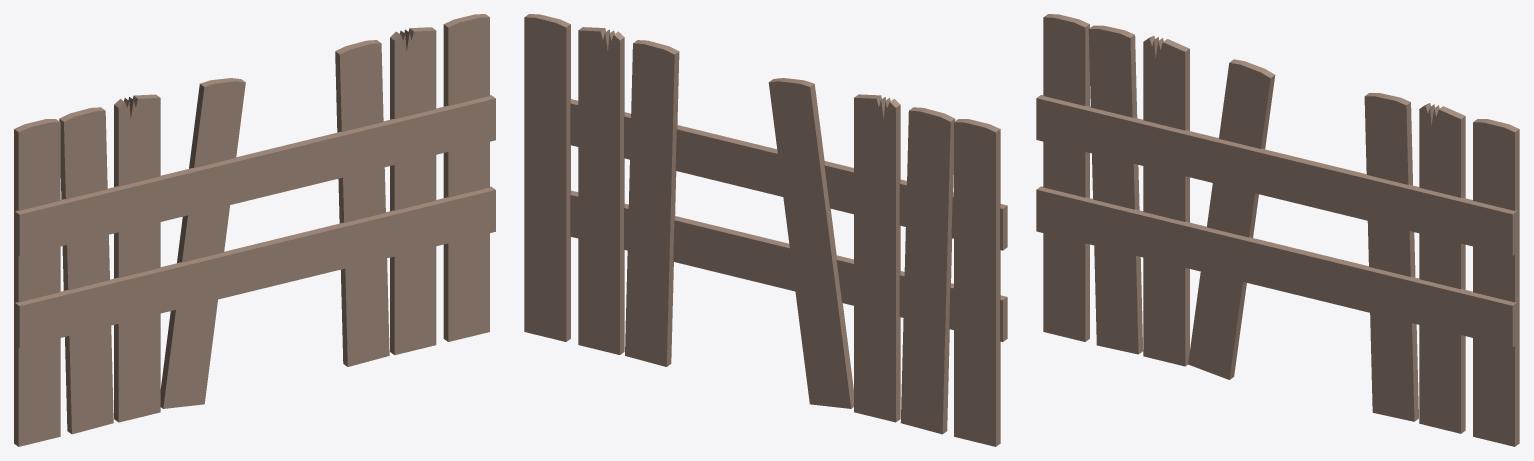
The model's file is Broken fence.fbx.
3 views of the same model, side by side, from view 1: azimuth 30°, elevation 25°; view 2: azimuth 150°, elevation 25°; view 3: azimuth 330°, elevation 25° (orthographic).
Parts seen in each view (by area): view 1: pasted__polySurface954; view 2: pasted__polySurface954; view 3: pasted__polySurface954.
Boxes of the visible parts, x1,y1,x2,y2 form: pasted__polySurface954: (14, 14, 495, 446); pasted__polySurface954: (524, 14, 1007, 446); pasted__polySurface954: (1036, 14, 1519, 446).
Size of the model in its own units: 11.33 by 7.31 by 0.3538.
